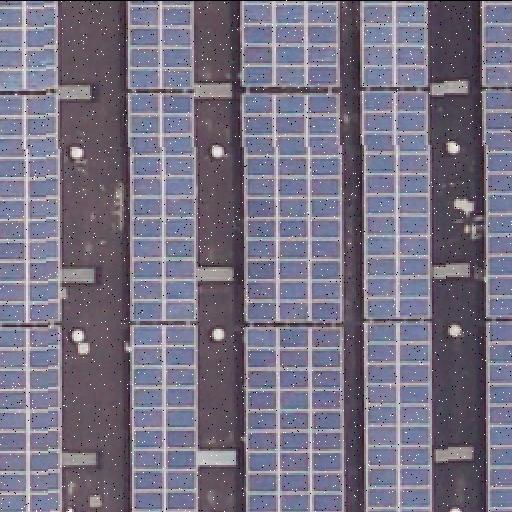solar-panel: (243, 93, 341, 323), (247, 326, 345, 512), (361, 90, 431, 318), (129, 94, 199, 322), (0, 93, 60, 323), (364, 321, 432, 511), (131, 326, 197, 512), (0, 324, 64, 512), (242, 1, 338, 87), (481, 90, 511, 318), (360, 0, 428, 88), (127, 0, 193, 90), (0, 0, 58, 90), (486, 320, 512, 512), (481, 1, 511, 87)
